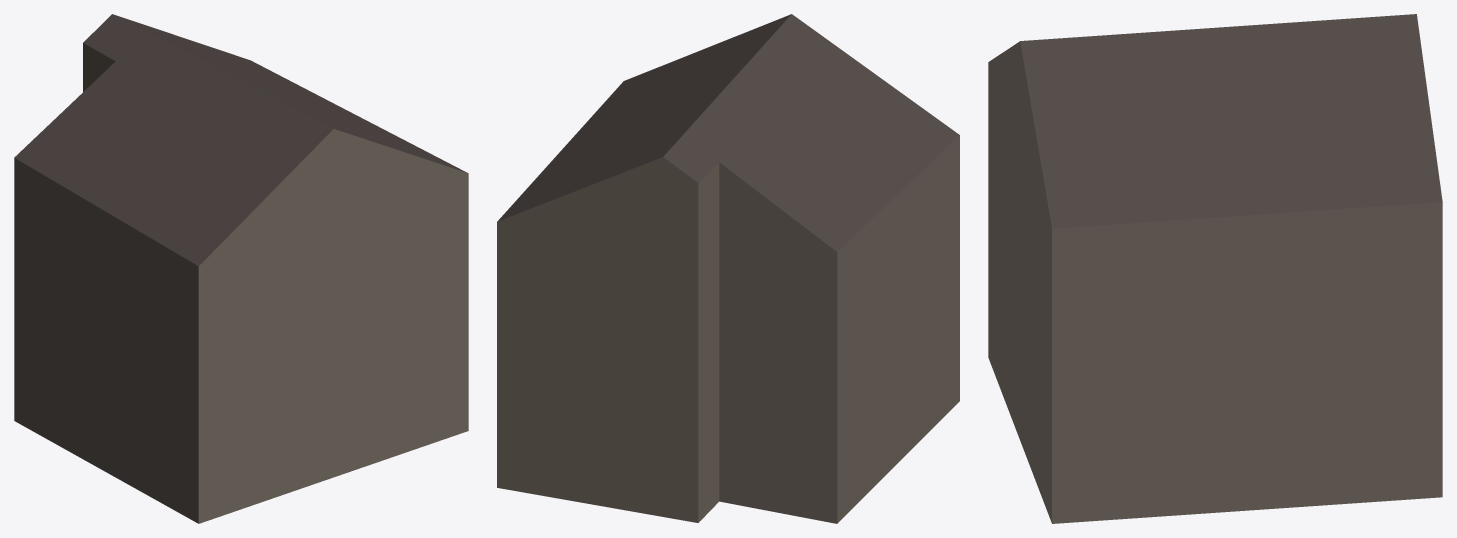
The picture shows the model from 3 angles, left to right: view 1: azimuth 30°, elevation 25°; view 2: azimuth 150°, elevation 25°; view 3: azimuth 270°, elevation 25°; orthographic projection. The views are drawn at different scales.
Parts seen in each view (by area): view 1: HP-w1512965849; view 2: HP-w1512965849; view 3: HP-w1512965849.
Part boxes in pixels (x1,y1,x2,y2): HP-w1512965849: (14,14,468,523); HP-w1512965849: (497,14,959,523); HP-w1512965849: (988,14,1442,523).
Bounding box in the file's own units: 8.06 × 8.12 × 8.37.
